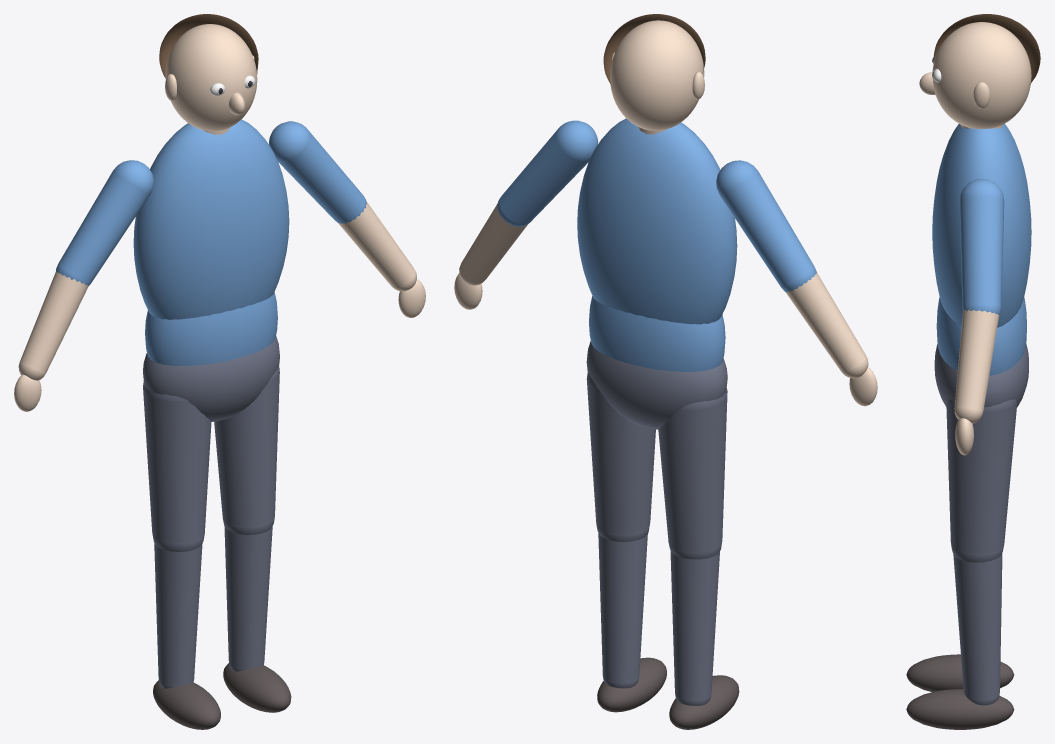
File: human_character.glb
3 views of the same model, side by side, from view 1: azimuth 30°, elevation 25°; view 2: azimuth 150°, elevation 25°; view 3: azimuth 270°, elevation 25° (orthographic). The views are drawn at different scales.
Parts seen in each view (by area): view 1: Torso, Thigh.R, Head, Thigh.L, Pelvis, Shin.R, Shin.L, Upper Arm.R, Upper Arm.L, Forearm.R, Forearm.L, Shoe.L (+4 smaller); view 2: Torso, Thigh.R, Head, Thigh.L, Shin.L, Shin.R, Pelvis, Upper Arm.R, Upper Arm.L, Forearm.R, Forearm.L, Shoe.R (+4 smaller); view 3: Torso, Thigh.L, Head, Shin.L, Upper Arm.L, Forearm.L, Shoe.L, Pelvis, Shoe.R, Hair, Hand.L.
Boxes of the visible parts, box(x1,y1,x2,y2) form: Torso: box(133, 119, 289, 365); Thigh.R: box(143, 381, 211, 551); Head: box(165, 24, 257, 134); Thigh.L: box(214, 366, 279, 534); Pelvis: box(143, 336, 279, 421); Shin.R: box(154, 543, 202, 688); Shin.L: box(224, 526, 272, 671); Upper Arm.R: box(56, 160, 153, 285); Upper Arm.L: box(269, 121, 366, 223); Forearm.R: box(18, 271, 88, 380); Forearm.L: box(337, 201, 416, 291); Shoe.L: box(223, 663, 291, 712); Torso: box(577, 118, 737, 371); Thigh.R: box(658, 388, 727, 559); Head: box(610, 20, 704, 134); Thigh.L: box(586, 372, 655, 541); Shin.L: box(598, 533, 647, 688); Shin.R: box(670, 551, 719, 705); Pelvis: box(586, 341, 727, 429); Upper Arm.R: box(716, 160, 816, 292); Upper Arm.L: box(497, 120, 598, 226); Forearm.R: box(785, 273, 868, 378); Forearm.L: box(459, 203, 527, 285); Shoe.R: box(669, 675, 739, 729); Torso: box(932, 123, 1031, 375); Thigh.L: box(946, 399, 1017, 562); Head: box(919, 22, 1031, 128); Shin.L: box(953, 553, 1002, 705); Upper Arm.L: box(959, 179, 1004, 314); Forearm.L: box(954, 309, 999, 423); Shoe.L: box(906, 689, 1014, 729); Pelvis: box(934, 344, 1028, 407); Shoe.R: box(906, 654, 1014, 691); Hair: box(933, 14, 1040, 85); Hand.L: box(955, 418, 973, 455).
Bounding box in the file's own units: 1.11 × 1.76 × 0.311.
